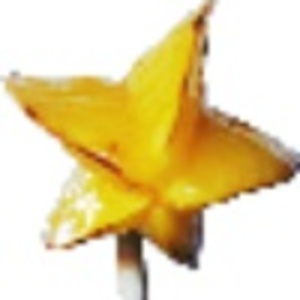carambola: (2, 1, 300, 300)
